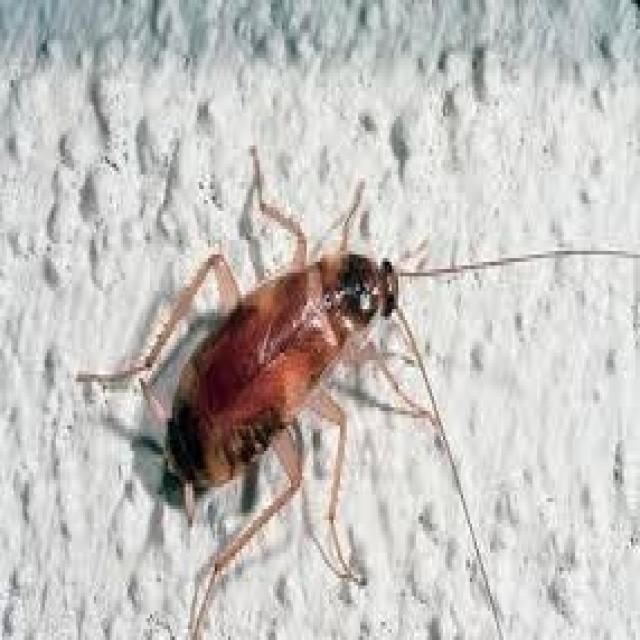Cockroach: (72, 130, 454, 640)
